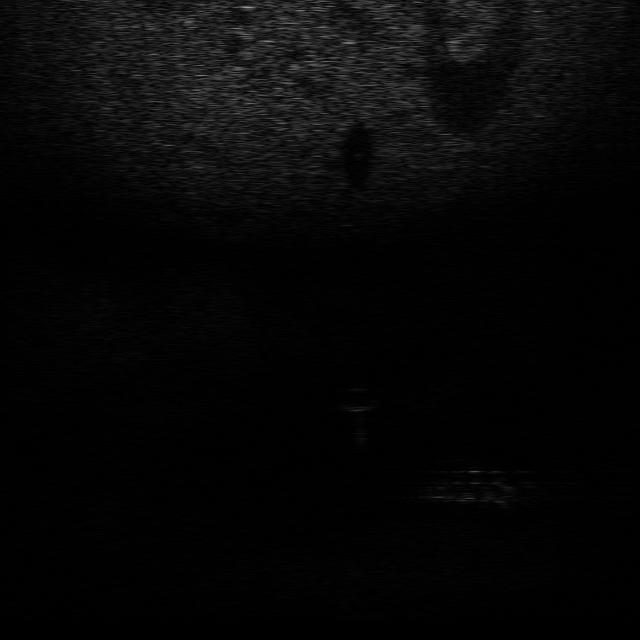ball: (332, 382, 386, 413)
tyre: (412, 467, 522, 505)
